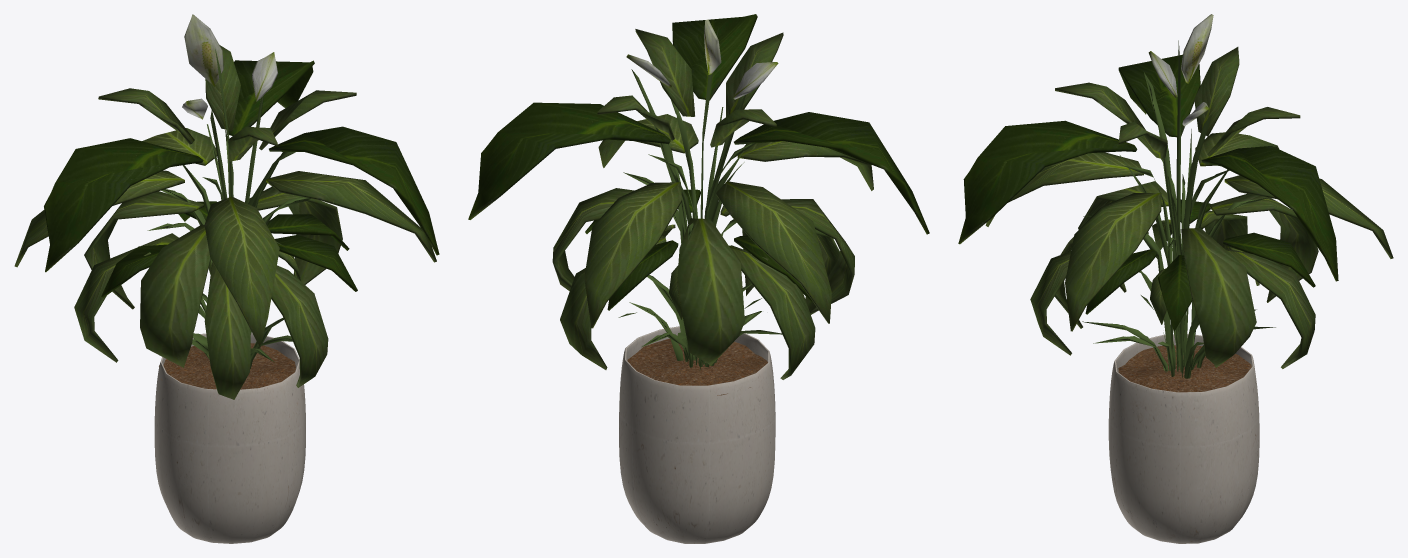
File: prop_Plant.glb
The picture shows the model from 3 angles, left to right: view 1: azimuth 30°, elevation 25°; view 2: azimuth 150°, elevation 25°; view 3: azimuth 270°, elevation 25°; orthographic projection. The views are drawn at different scales.
Parts seen in each view (by area): view 1: Pot; view 2: Pot; view 3: Pot.
Boxes of the visible parts, <box> form: Pot: <box>14,14,439,543</box>; Pot: <box>468,14,929,543</box>; Pot: <box>958,14,1393,543</box>.
Size of the model in its own units: 1.26 by 1.73 by 1.36.
4 materials, 3 textured.
